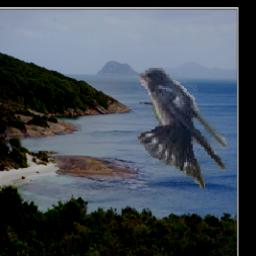Swallow: (135, 69, 226, 191)
